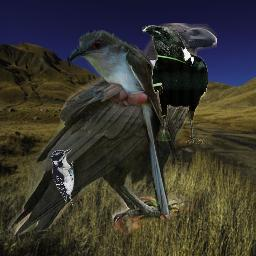Crow: (7, 23, 217, 237), (142, 25, 208, 144)
Cuckoo: (66, 30, 179, 215)
Woodpecker: (51, 149, 76, 206)
